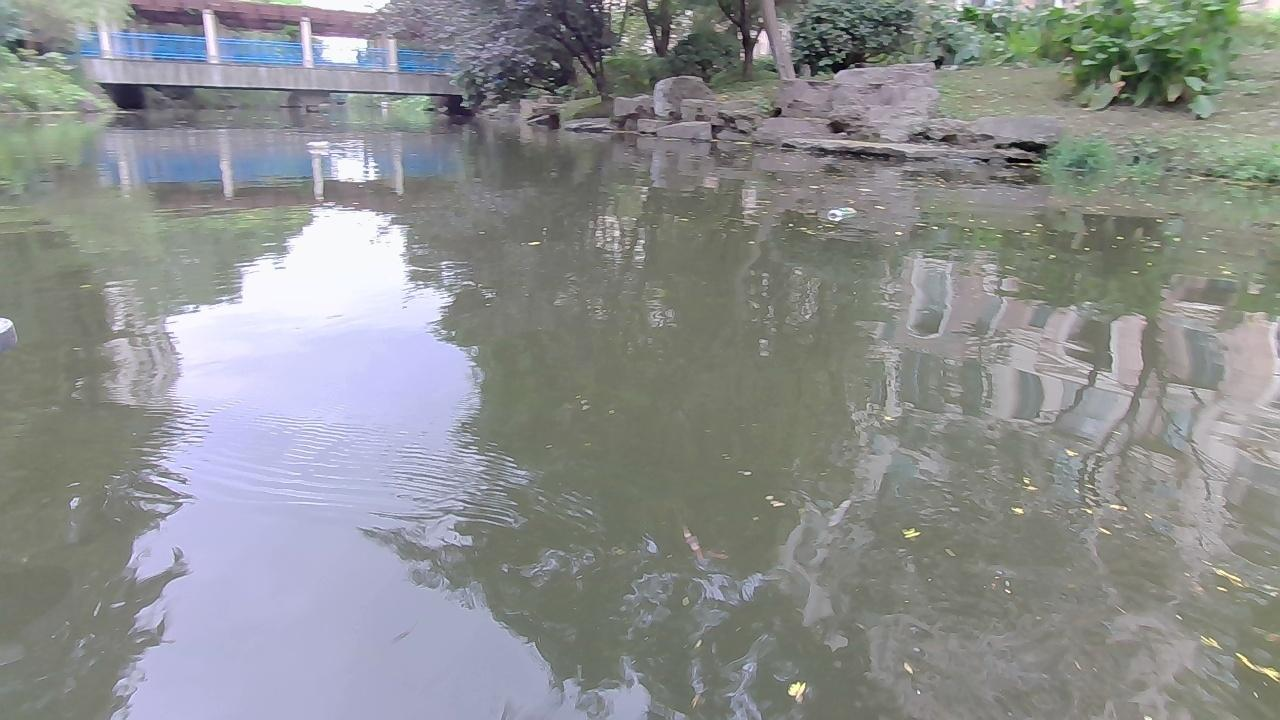bottle: (826, 204, 862, 221), (303, 139, 335, 148)
